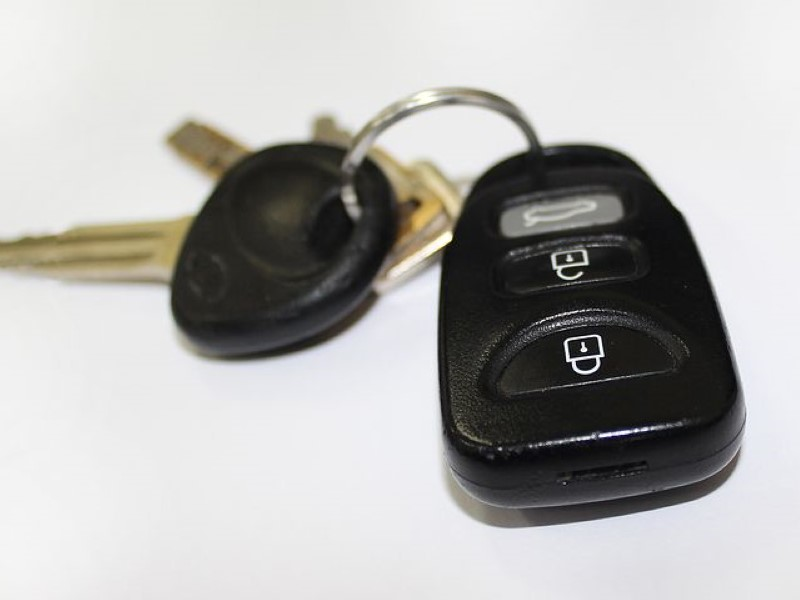carkey: (437, 142, 750, 526)
key: (0, 127, 434, 363)
